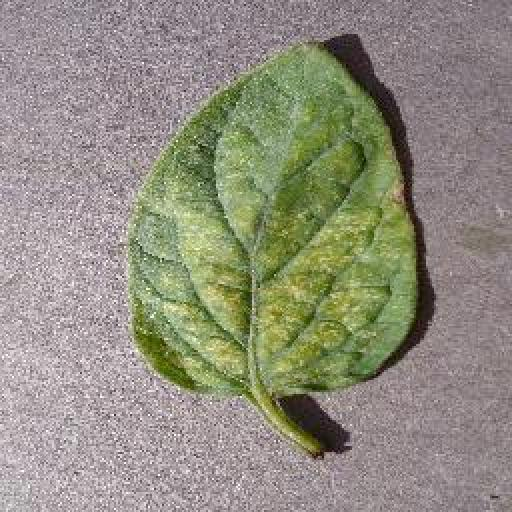disease_tomato: (122, 40, 418, 396)
